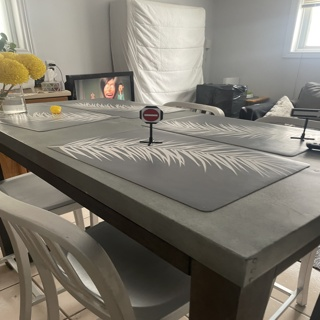sign_noentry: (140, 107, 158, 121)
